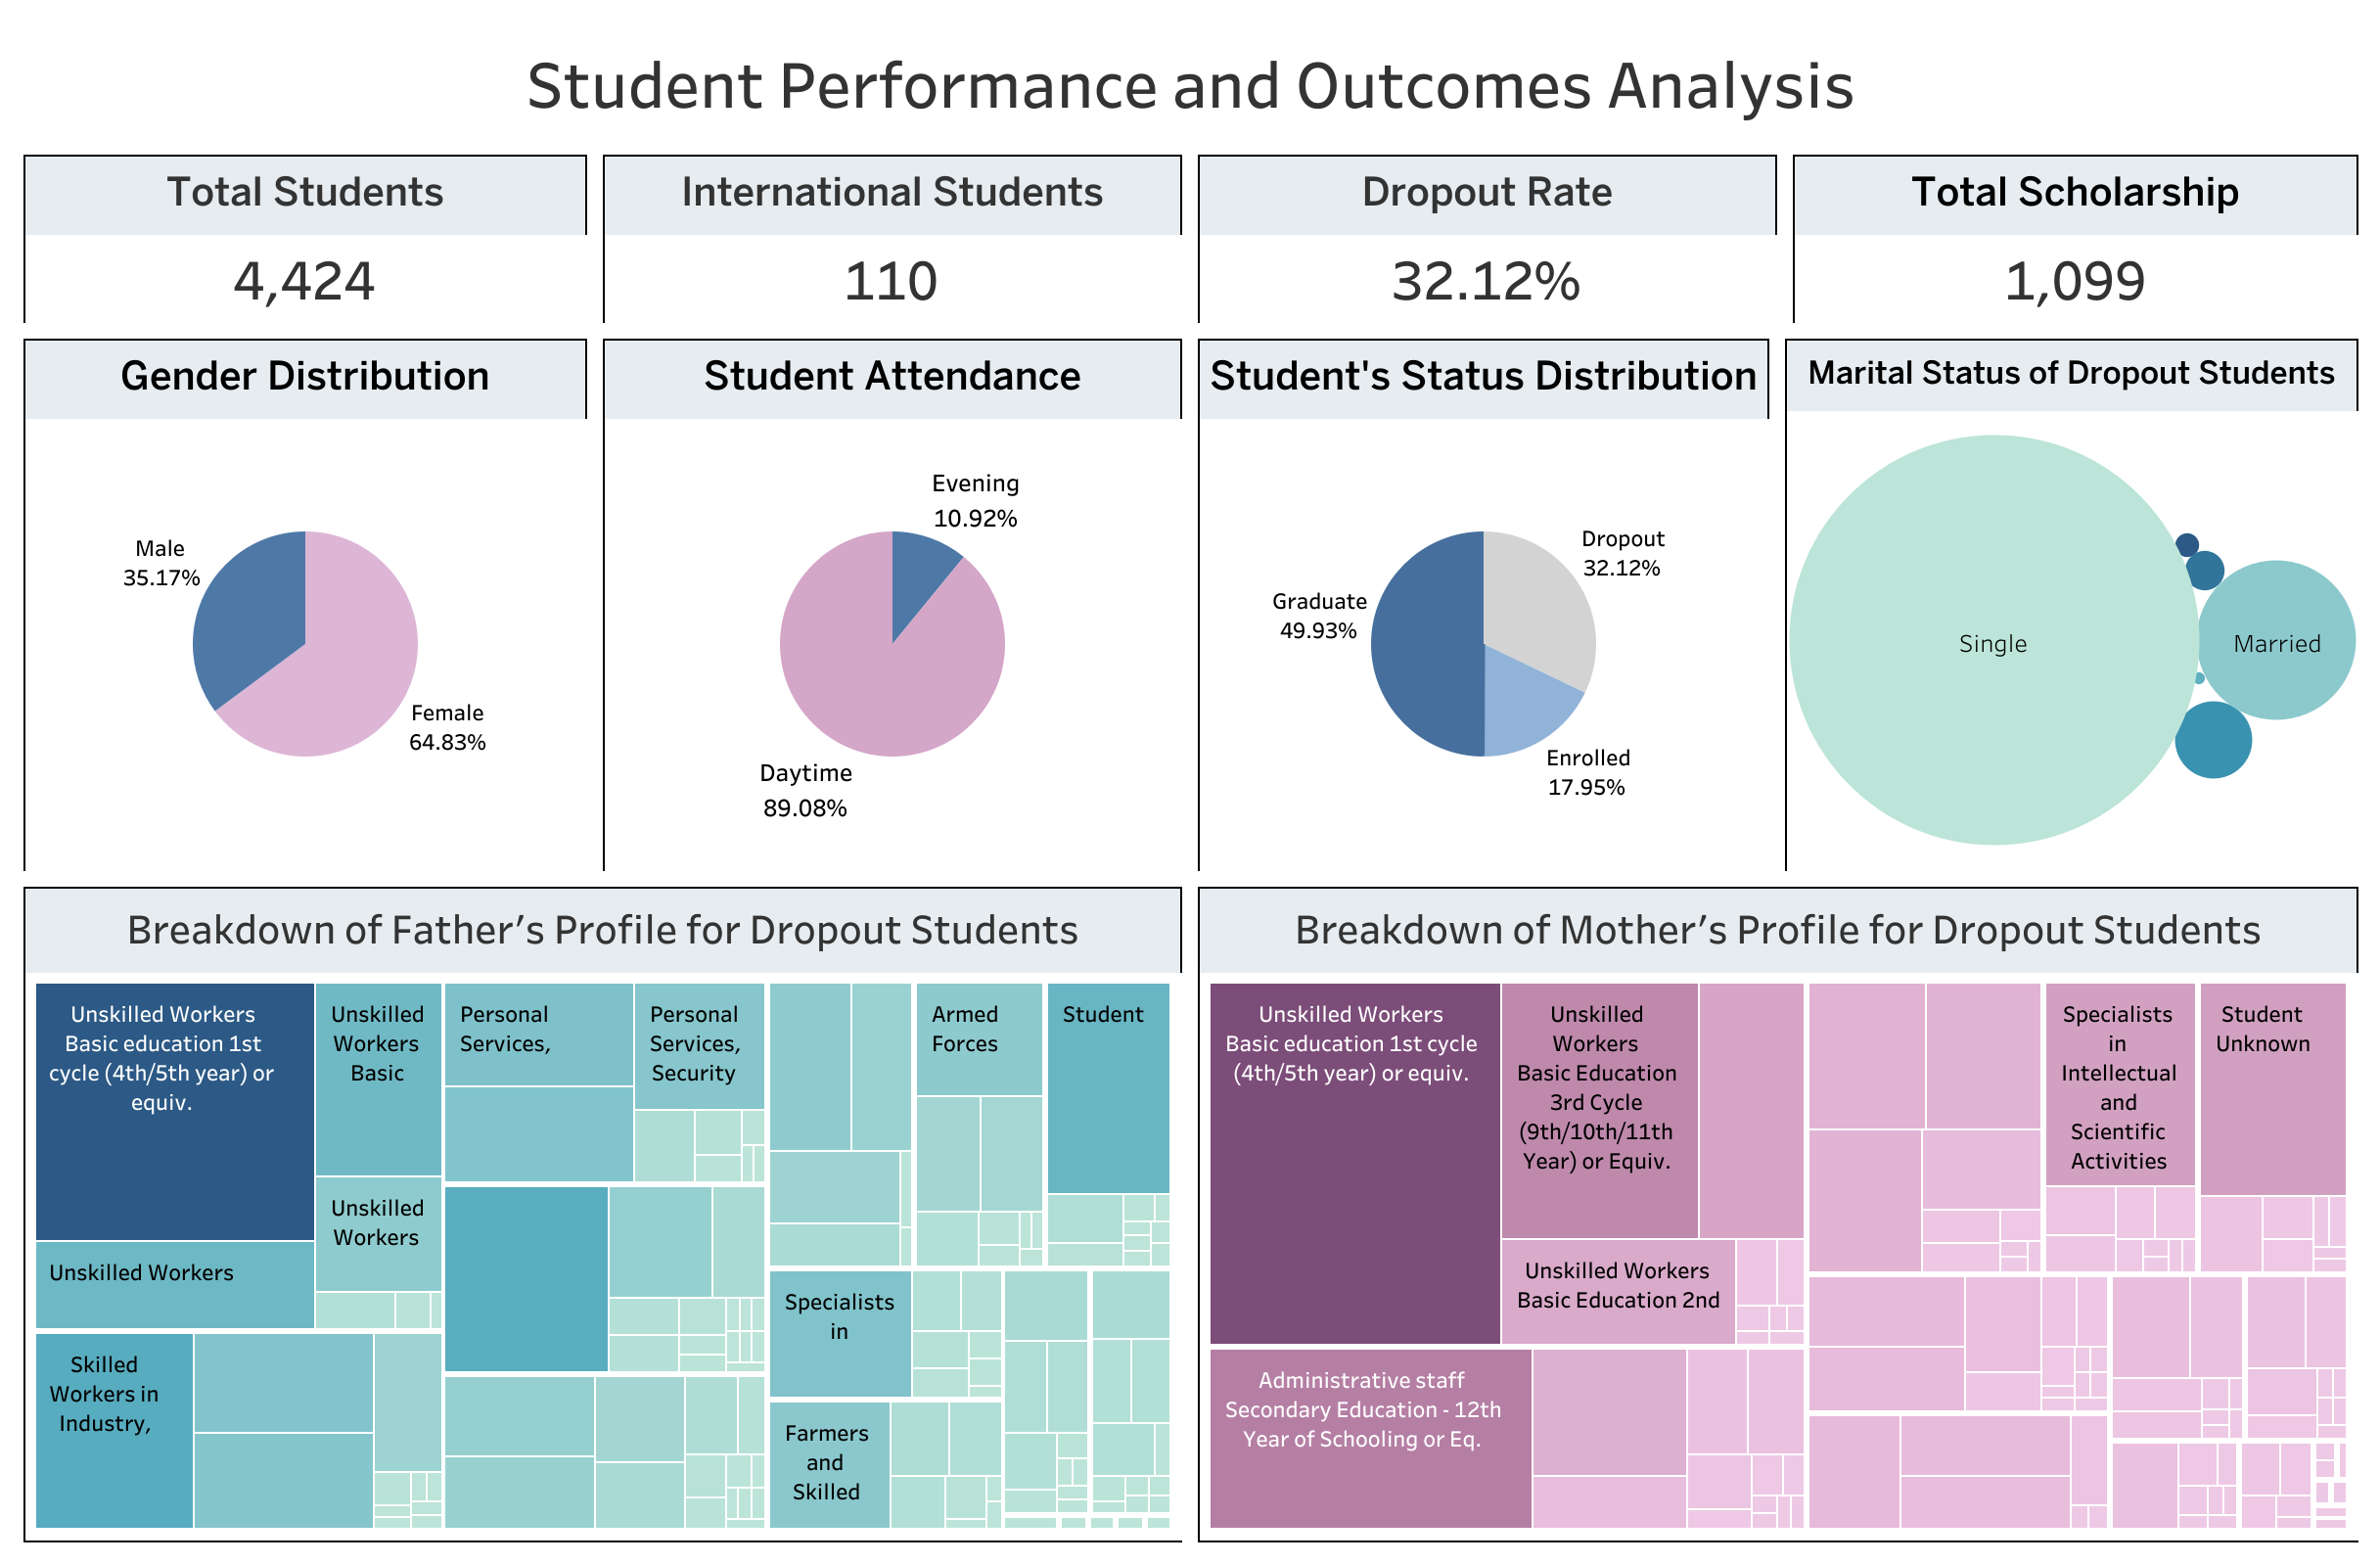

This screenshot's page, from the dashboard's own definition file:
{"tool":"tableau","page":{"name":"Dashboard","canvas":[1217,800],"ordinal":0},"visuals":[{"type":"title","box":[8,8,1201,67]},{"type":"worksheet","title":"Total Students","mark":"Automatic","box":[8,75,296,93.7]},{"type":"worksheet","title":"International Students","mark":"Automatic","box":[304,75,304,93.7]},{"type":"worksheet","title":"Dropout Rate","mark":"Automatic","box":[608,75,304,93.7]},{"type":"worksheet","title":"Scholarship Distribution","mark":"Automatic","box":[912,75,297,93.7]},{"type":"worksheet","title":"Gender Distribution","mark":"Pie","box":[8,168.7,296,280.3]},{"type":"worksheet","title":"Daytime/Evening Attendance","mark":"Pie","box":[304,168.7,304,280.3]},{"type":"worksheet","title":"Distribution of Student's Status","mark":"Pie","box":[608,168.7,300.5,280.3]},{"type":"worksheet","title":"Marital Status Distribution","mark":"Circle","box":[908.5,168.7,300.5,280.3]},{"type":"worksheet","title":"Breakdown of Father's Profile for Dropout Students","mark":"Automatic","box":[8,449,600.5,343]},{"type":"worksheet","title":"Breakdown of Mother's Profile for Dropout Students","mark":"Automatic","box":[608.5,449,600.5,343]}]}

Visuals, with their boxes in screenshot pixels (x1, y1, x2, y2), scaled from the page's 1217x800 canvas onto the 2380x1564 screenshot:
title: select_region(16, 16, 2364, 147)
"Total Students" worksheet: select_region(16, 147, 595, 330)
"International Students" worksheet: select_region(595, 147, 1189, 330)
"Dropout Rate" worksheet: select_region(1189, 147, 1784, 330)
"Scholarship Distribution" worksheet: select_region(1784, 147, 2364, 330)
"Gender Distribution" worksheet (Pie marks): select_region(16, 330, 595, 878)
"Daytime/Evening Attendance" worksheet (Pie marks): select_region(595, 330, 1189, 878)
"Distribution of Student's Status" worksheet (Pie marks): select_region(1189, 330, 1777, 878)
"Marital Status Distribution" worksheet (Circle marks): select_region(1777, 330, 2364, 878)
"Breakdown of Father's Profile for Dropout Students" worksheet: select_region(16, 878, 1190, 1548)
"Breakdown of Mother's Profile for Dropout Students" worksheet: select_region(1190, 878, 2364, 1548)
